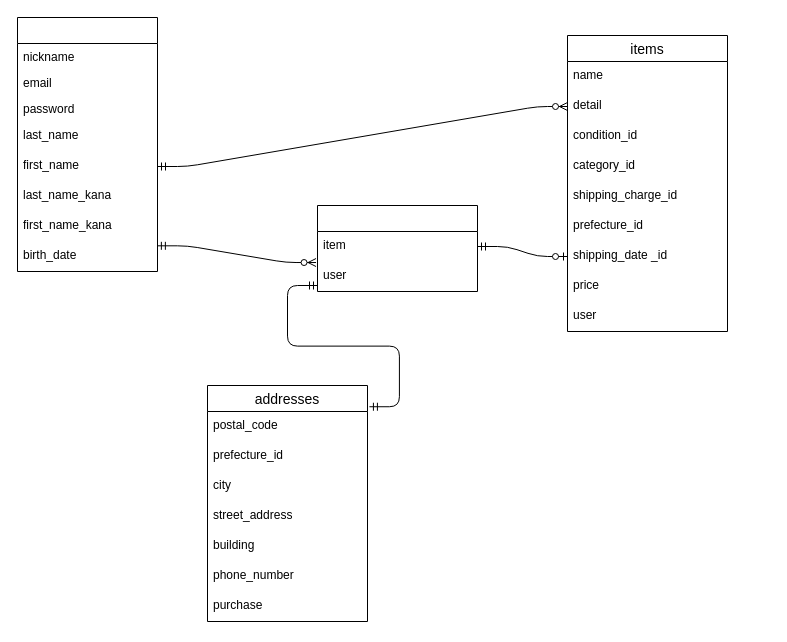
This 787x642 diagram has some shape labels left out. The box of each missing label's shape, as (x1, y1, x2, y2) in pixels:
purchases: (316, 204, 478, 292)
users: (16, 16, 158, 272)
